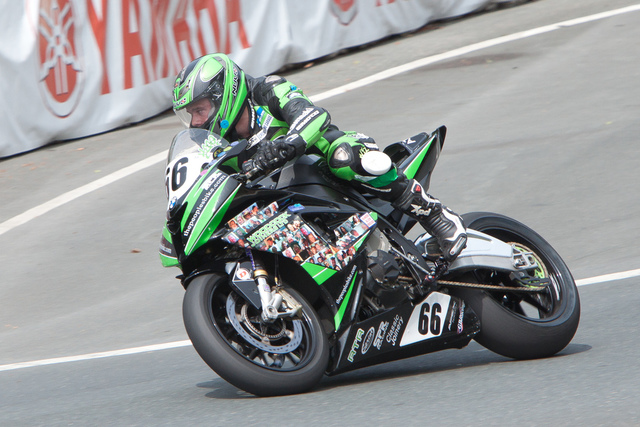helmet: (170, 53, 244, 126)
